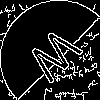W: (25, 25, 91, 91)
